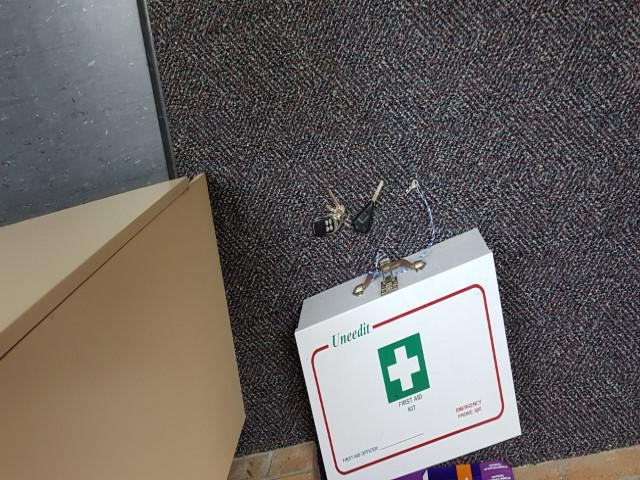key: (348, 178, 388, 234)
